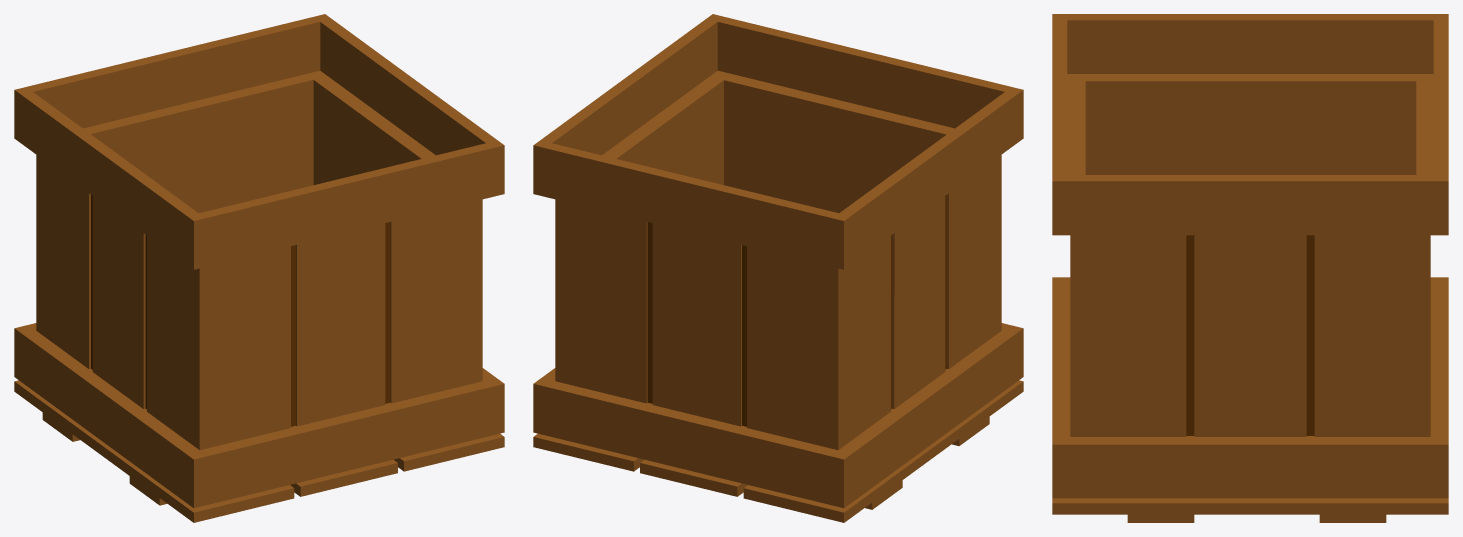
File: Prop_Crate_Empty_01.fbx
3 renders of one model, left to right at view 1: azimuth 30°, elevation 25°; view 2: azimuth 150°, elevation 25°; view 3: azimuth 270°, elevation 25°, orthographic. The views are drawn at different scales.
Visible parts, largest first — view 1: Prop_Crate_Empty_01; view 2: Prop_Crate_Empty_01; view 3: Prop_Crate_Empty_01.
Part boxes in pixels (x1,y1,x2,y2): Prop_Crate_Empty_01: [14, 14, 504, 522]; Prop_Crate_Empty_01: [533, 14, 1023, 522]; Prop_Crate_Empty_01: [1052, 14, 1448, 522].
Bounding box in the file's own units: 22.15 × 21.08 × 22.15.
